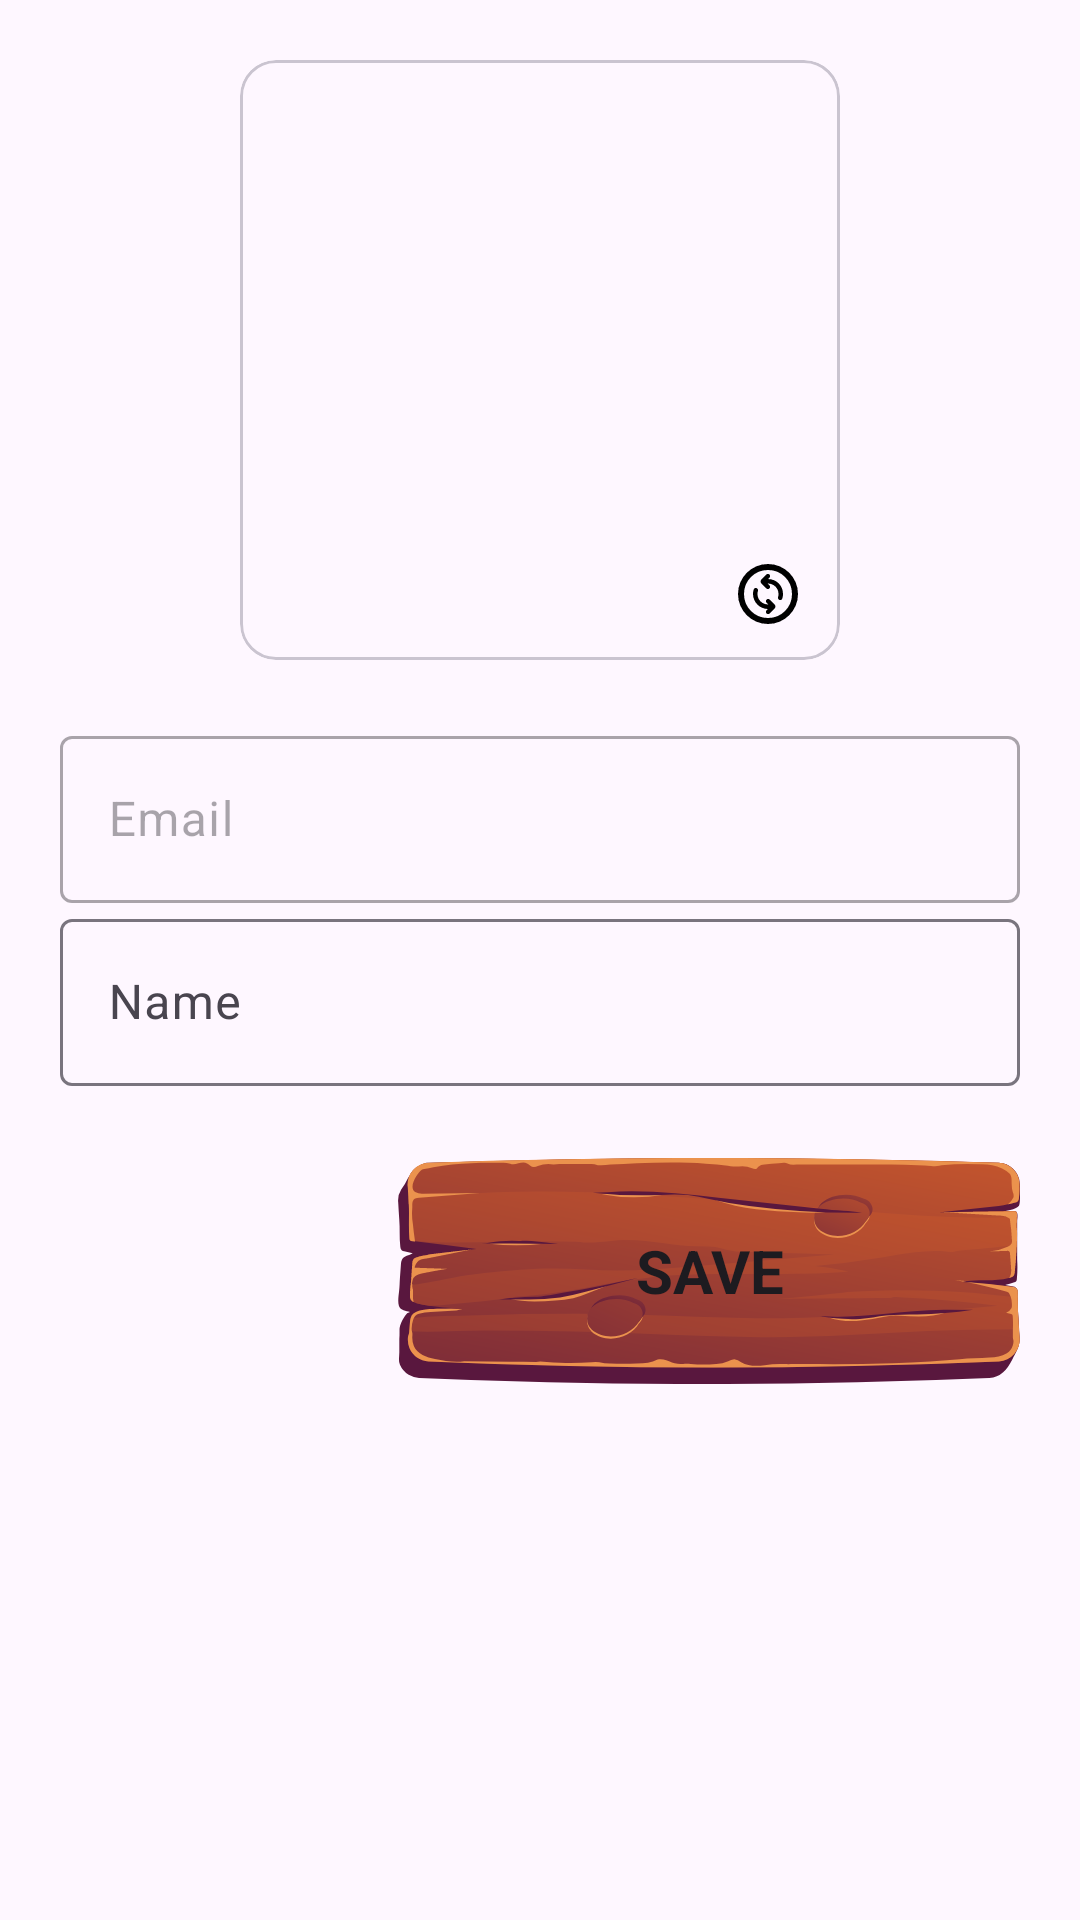

Named icons in this screenshot (1080x1920) and their bounding boxes, [x1=x1, y1=y1, x2=x2, y2=y2]:
change circle: [x1=738, y1=564, x2=798, y2=624]
